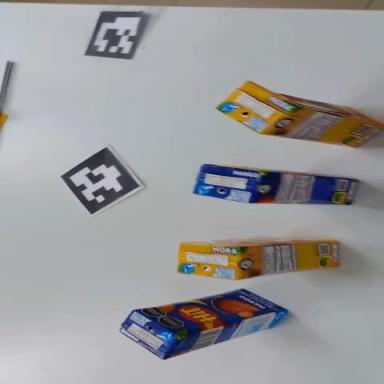HIT-MANGO: (117, 279, 292, 368), (193, 163, 358, 214)
HIT-MORA: (214, 75, 384, 164), (177, 233, 342, 284)
cara_F: (135, 274, 287, 346), (246, 81, 384, 128), (181, 231, 333, 252)
